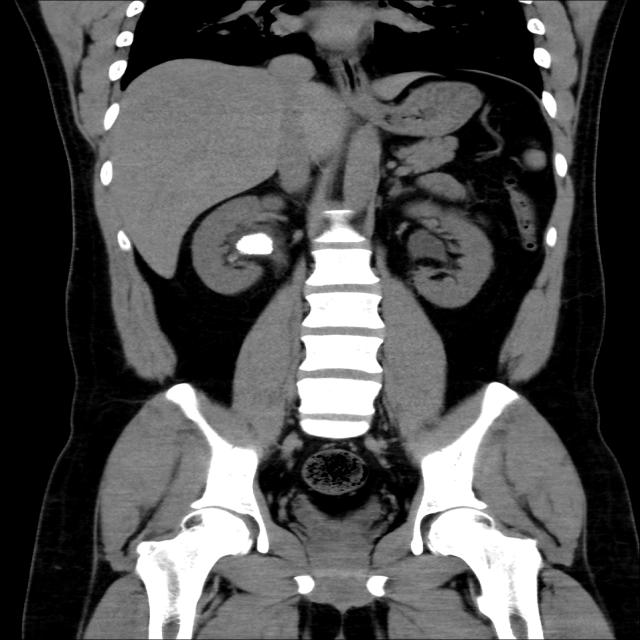kidneystone: (236, 232, 273, 254)
